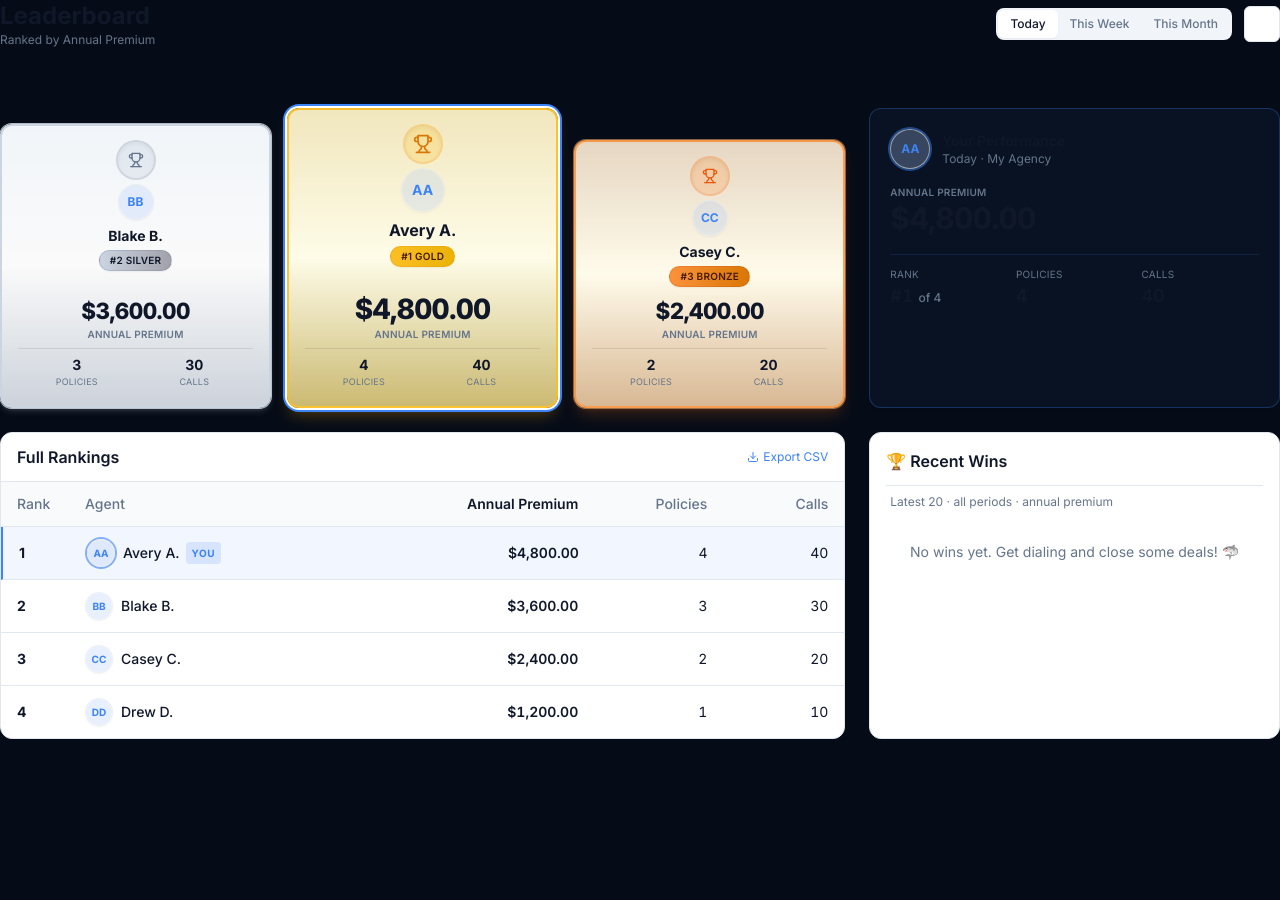
Test: board preservation on RPC-fed standings › enters TV mode from the filters button
The image size is (1280, 900).
Click the button named "Full Screen Display Mode".
click(1262, 24)  # box [1244, 6, 1279, 42]
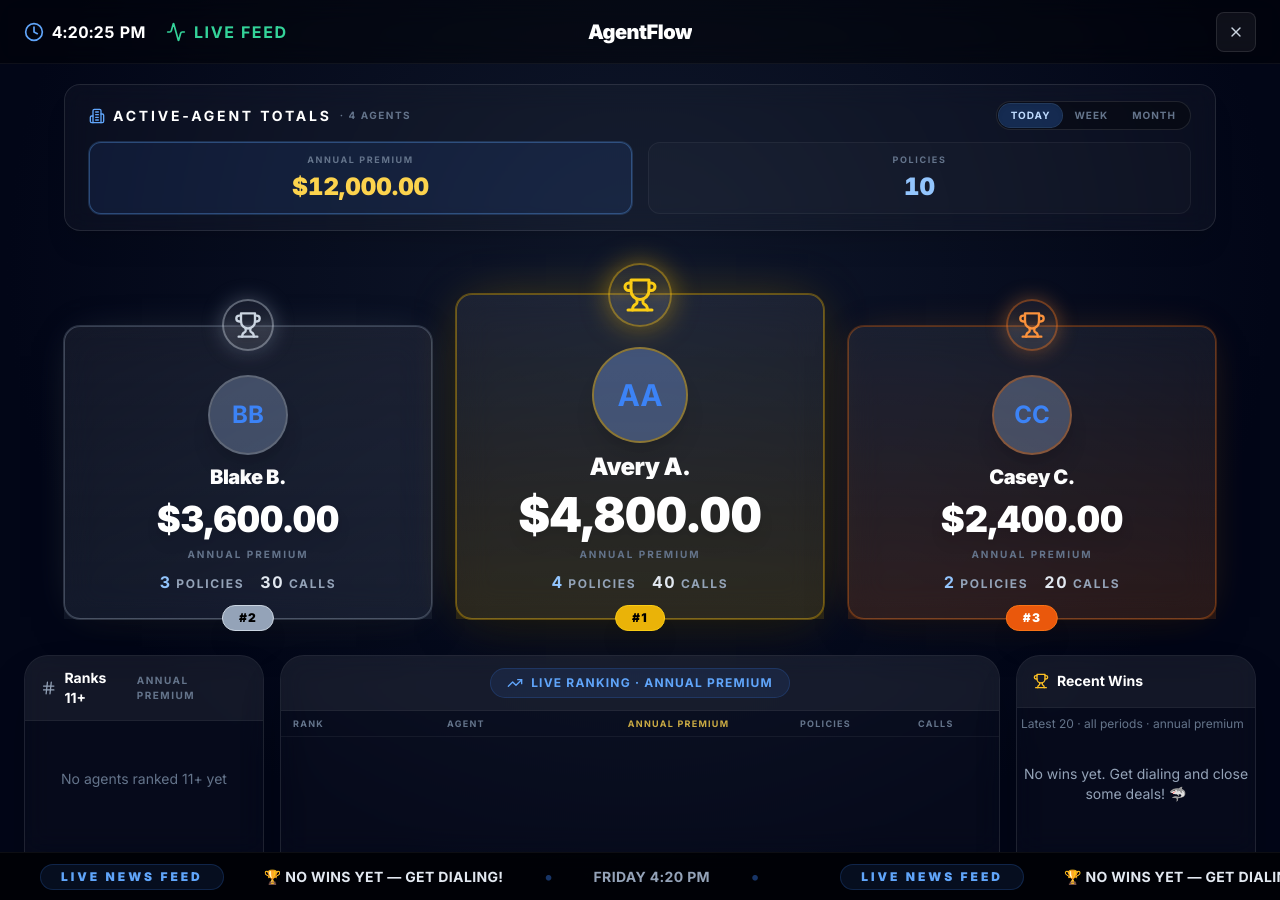
Expected: the button "Export CSV" is gone
